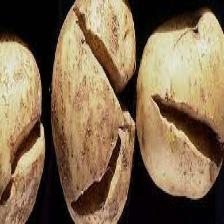Damaged potato: (50, 0, 138, 224), (133, 3, 222, 200), (0, 28, 44, 222)
